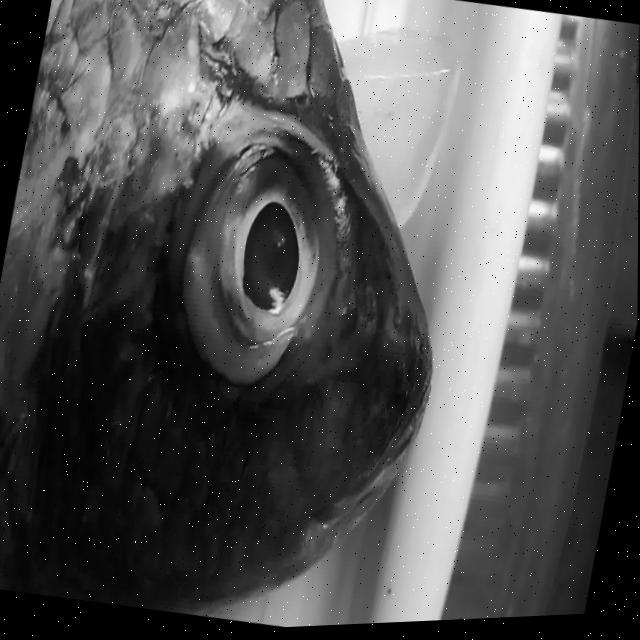Fresh: (118, 53, 407, 469)
